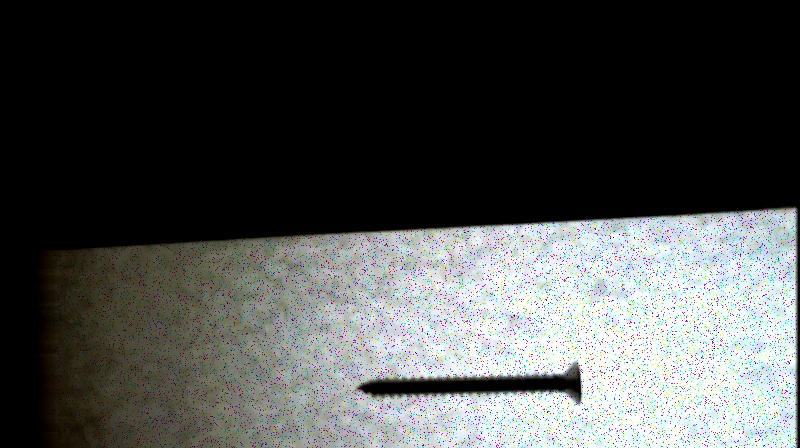S002: (353, 358, 586, 412)
